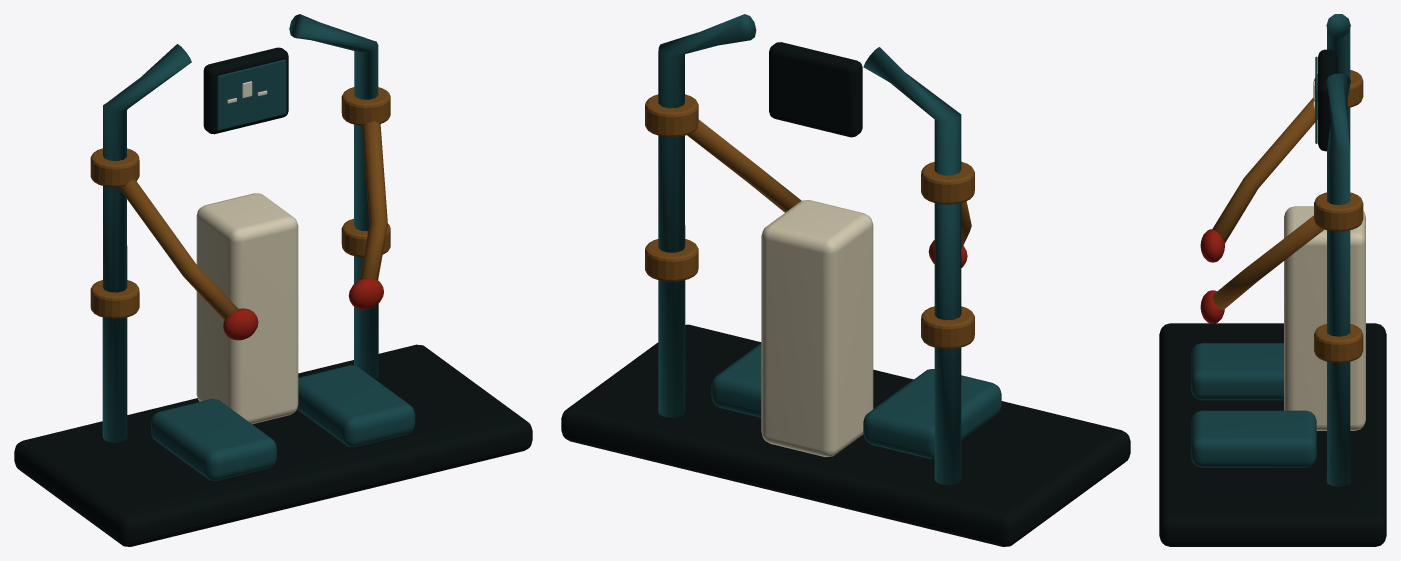
Rendered from motion.glb.
The picture shows the model from 3 angles, left to right: view 1: azimuth 30°, elevation 25°; view 2: azimuth 150°, elevation 25°; view 3: azimuth 270°, elevation 25°; orthographic projection. The views are drawn at different scales.
Visible parts, largest first — view 1: Apparatus; view 2: Apparatus; view 3: Apparatus.
Boxes of the visible parts, box(x1,y1,x2,y2) form: Apparatus: box(14, 14, 532, 546); Apparatus: box(561, 14, 1130, 546); Apparatus: box(1159, 14, 1386, 546).
Size of the model in its own units: 1.74 by 1.64 by 0.83.
